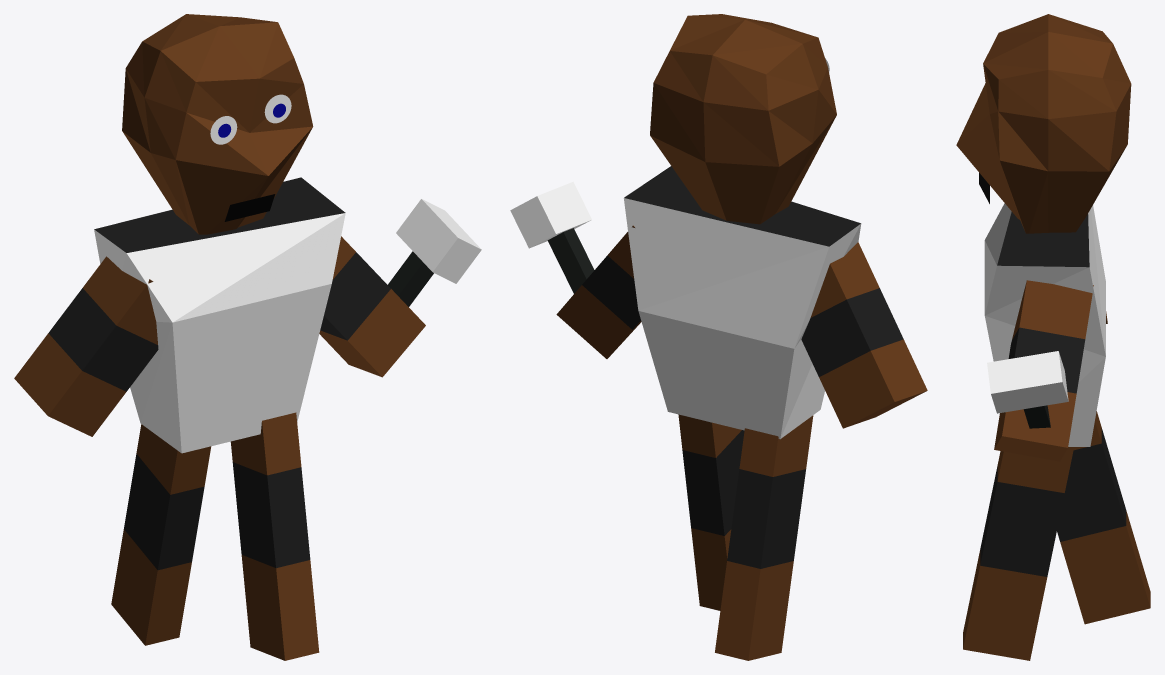
File: slave2.obj
3 renders of one model, left to right at view 1: azimuth 30°, elevation 25°; view 2: azimuth 150°, elevation 25°; view 3: azimuth 270°, elevation 25°, orthographic. The views are drawn at different scales.
Visible parts, largest first — view 1: Cube.001, Cube, Cube.005, Cube.003, Cube.004, Cube.002, Cube.008, Cube.007, Plane; view 2: Cube.001, Cube, Cube.004, Cube.003, Cube.005, Cube.002, Cube.008, Cube.007; view 3: Cube, Cube.005, Cube.001, Cube.004, Cube.002, Cube.008, Cube.007.
Boxes of the visible parts, left/top/right/bottom form: Cube.001: left=94, top=177, right=345, bottom=453; Cube: left=122, top=14, right=313, bottom=234; Cube.005: left=230, top=412, right=319, bottom=660; Cube.003: left=14, top=256, right=158, bottom=436; Cube.004: left=111, top=424, right=211, bottom=645; Cube.002: left=319, top=236, right=425, bottom=377; Cube.008: left=396, top=199, right=481, bottom=283; Cube.007: left=388, top=251, right=433, bottom=306; Plane: left=224, top=194, right=275, bottom=221; Cube.001: left=623, top=166, right=861, bottom=439; Cube: left=650, top=14, right=836, bottom=224; Cube.004: left=715, top=415, right=813, bottom=660; Cube.003: left=801, top=242, right=927, bottom=428; Cube.005: left=678, top=414, right=744, bottom=610; Cube.002: left=556, top=225, right=641, bottom=358; Cube.008: left=510, top=181, right=591, bottom=248; Cube.007: left=547, top=228, right=594, bottom=293; Cube: left=956, top=14, right=1131, bottom=233; Cube.005: left=963, top=447, right=1074, bottom=660; Cube.001: left=984, top=203, right=1105, bottom=446; Cube.004: left=1057, top=411, right=1150, bottom=624; Cube.002: left=994, top=280, right=1093, bottom=461; Cube.008: left=987, top=351, right=1068, bottom=413; Cube.007: left=1023, top=405, right=1050, bottom=428.
Size of the model in its own units: 4.16 by 5.98 by 1.75.
